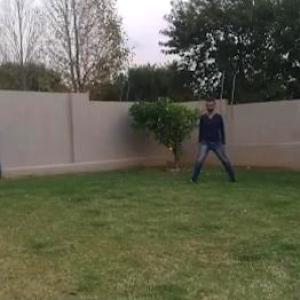follow: (202, 90, 224, 178)
